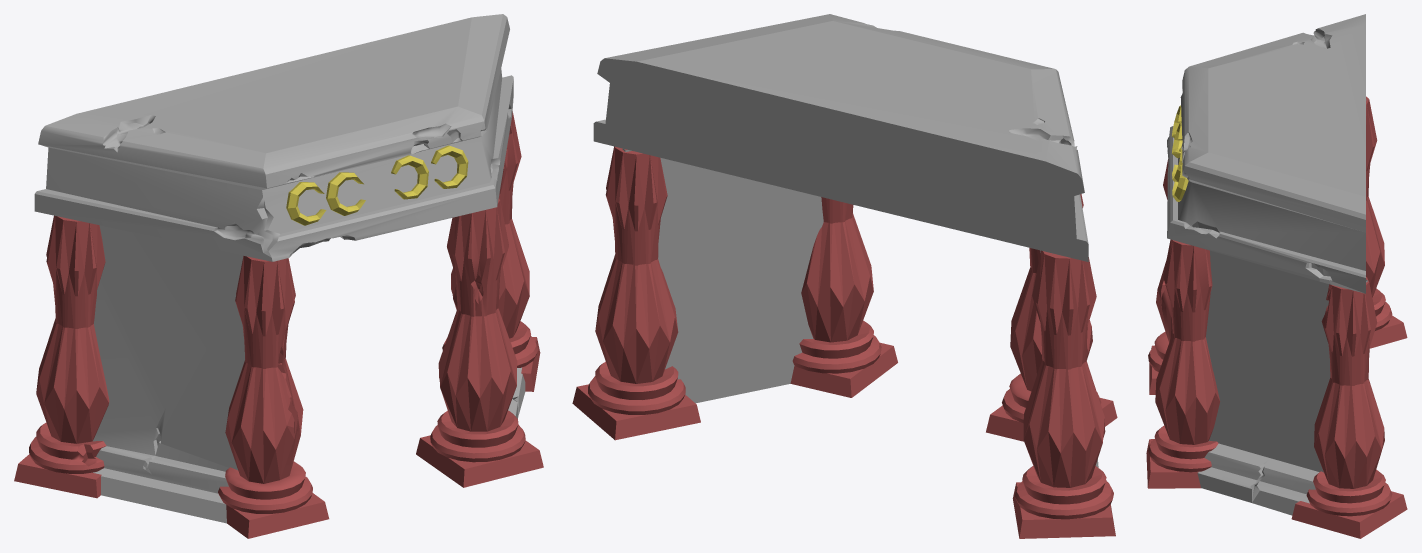
The model's file is SM_AscenseurChipped.fbx.
The picture shows the model from 3 angles, left to right: view 1: azimuth 30°, elevation 25°; view 2: azimuth 150°, elevation 25°; view 3: azimuth 270°, elevation 25°; orthographic projection. The views are drawn at different scales.
Parts seen in each view (by area): view 1: allcombine; view 2: allcombine; view 3: allcombine.
Boxes of the visible parts, x1,y1,x2,y2 form: allcombine: [14, 14, 543, 538]; allcombine: [572, 14, 1117, 538]; allcombine: [1146, 14, 1407, 538].
Bounding box in the file's own units: 1733 × 1100 × 830.
